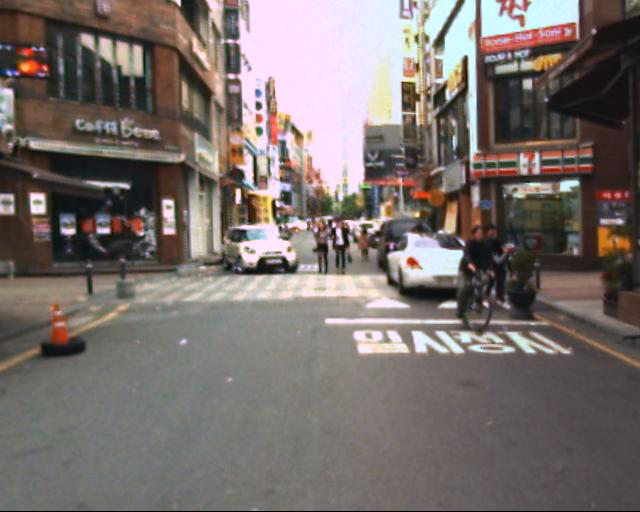person: (446, 220, 501, 337), (473, 205, 512, 311), (326, 207, 354, 278), (311, 208, 332, 280), (353, 210, 377, 267)
